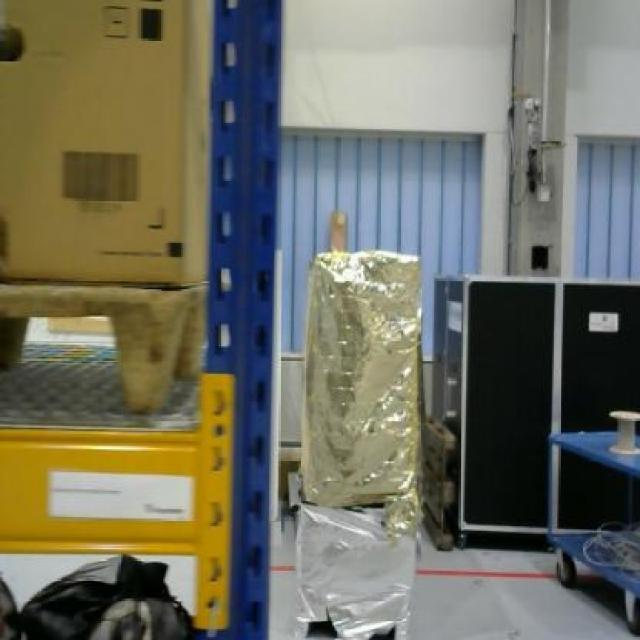box: (0, 0, 209, 285)
